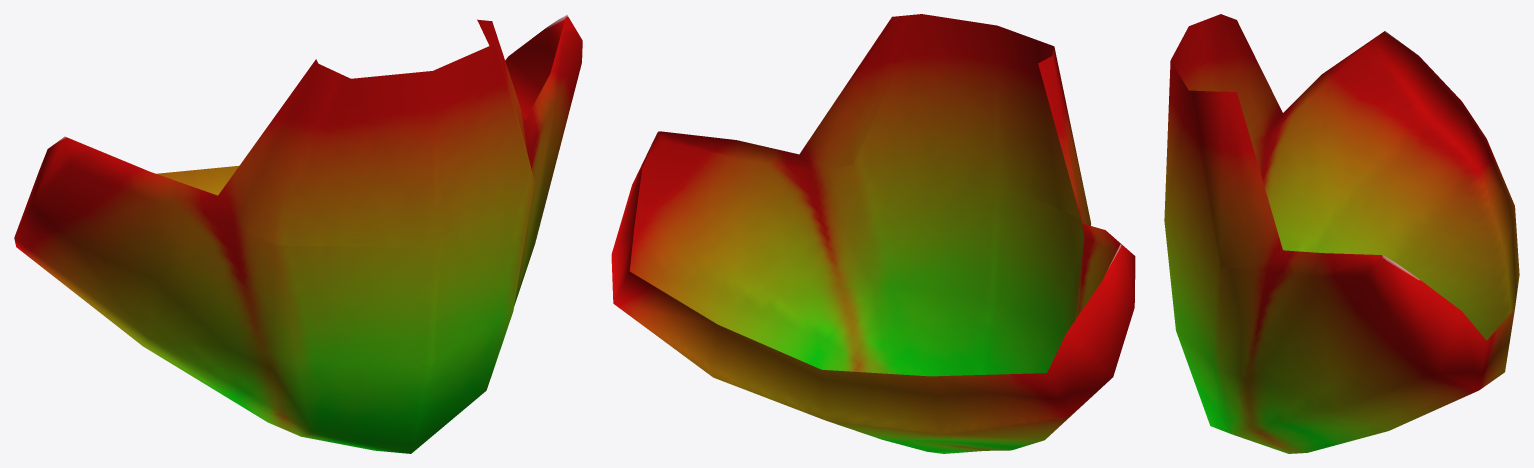
File: LowerFace_ChinGoatee.obj
3 renders of one model, left to right at view 1: azimuth 30°, elevation 25°; view 2: azimuth 150°, elevation 25°; view 3: azimuth 270°, elevation 25°, orthographic. The views are drawn at different scales.
Parts seen in each view (by area): view 1: LowerFace_ChinGoatee_0; view 2: LowerFace_ChinGoatee_0; view 3: LowerFace_ChinGoatee_0.
Part boxes in pixels (x1=…): LowerFace_ChinGoatee_0: x1=14, y1=15, x2=582, y2=453; LowerFace_ChinGoatee_0: x1=611, y1=14, x2=1135, y2=453; LowerFace_ChinGoatee_0: x1=1164, y1=14, x2=1519, y2=453.
Bounding box in the file's own units: 0.0527 × 0.0397 × 0.0324.
Materials: 1 (1 with a texture image).
